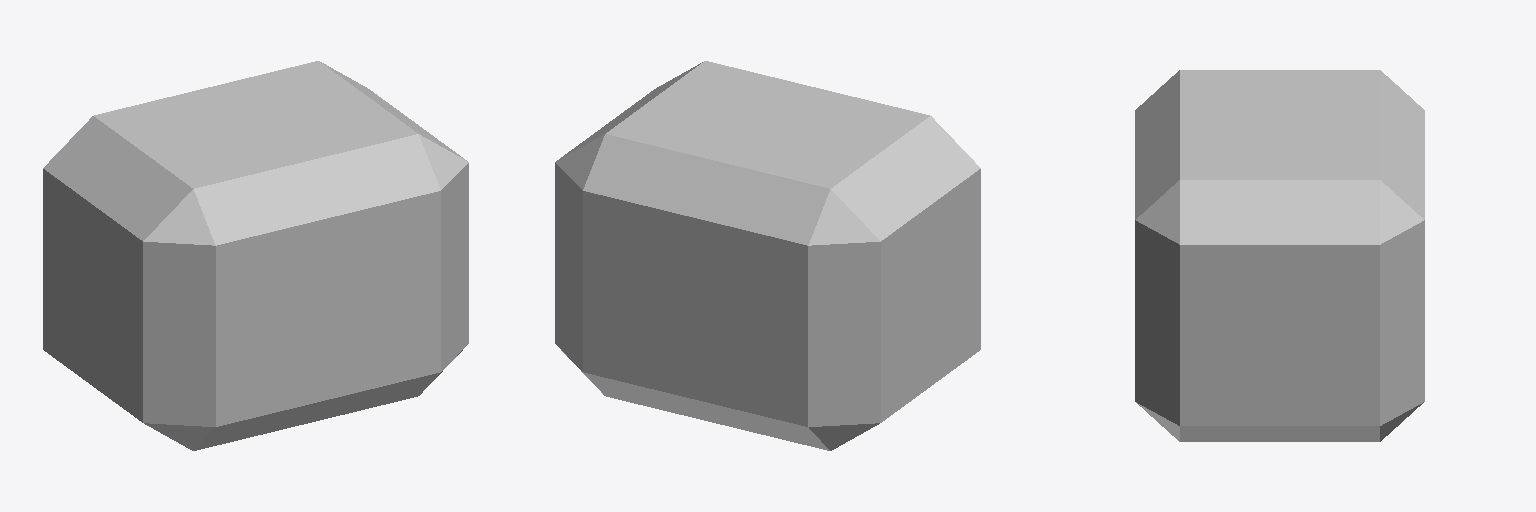
The model's file is Enemy.obj.
3 views of the same model, side by side, from view 1: azimuth 30°, elevation 25°; view 2: azimuth 150°, elevation 25°; view 3: azimuth 270°, elevation 25° (orthographic).
Visible parts, largest first — view 1: 立方体; view 2: 立方体; view 3: 立方体.
Part boxes in pixels (x1,y1,x2,y2): 立方体: (43,61,468,450); 立方体: (555,61,980,450); 立方体: (1135,70,1424,441).
Size of the model in its own units: 1.01 by 0.7734 by 0.7734.